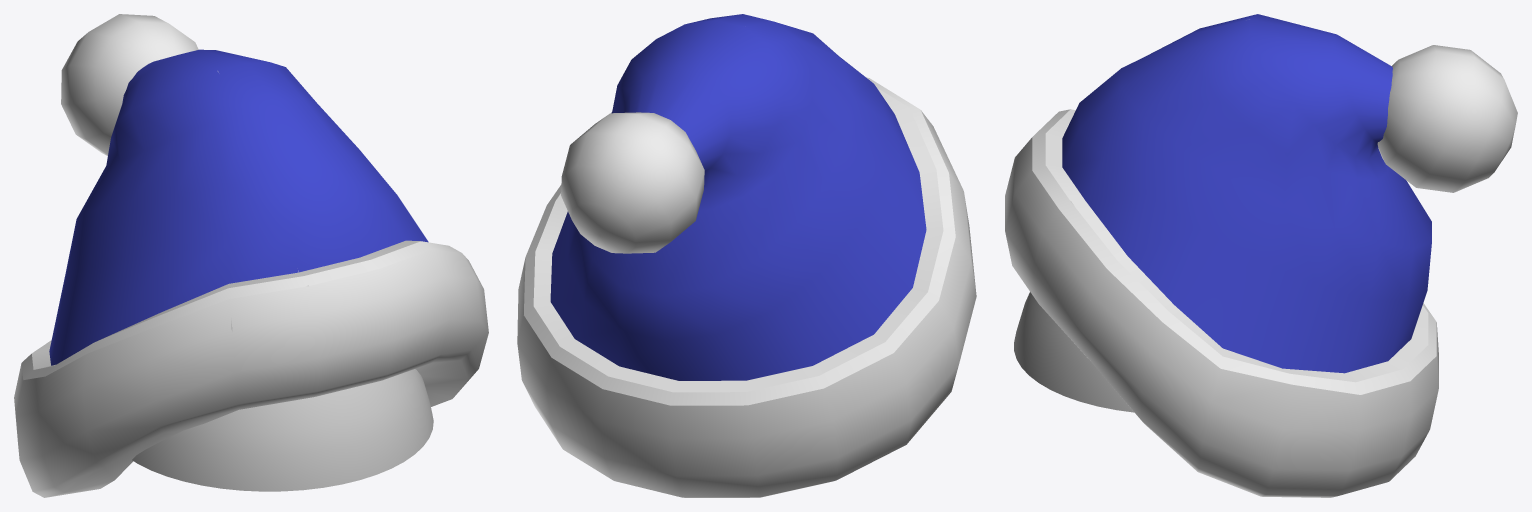
Rendered from R2D2Head.obj.
The picture shows the model from 3 angles, left to right: view 1: azimuth 30°, elevation 25°; view 2: azimuth 150°, elevation 25°; view 3: azimuth 270°, elevation 25°; orthographic projection. The views are drawn at different scales.
Parts seen in each view (by area): view 1: Gorro_navidad.001, Gorro_navidad, Mesh_0732.001_Mesh_0732Mesh.003; view 2: Gorro_navidad, Gorro_navidad.001; view 3: Gorro_navidad, Gorro_navidad.001, Mesh_0732.001_Mesh_0732Mesh.003.
Boxes of the visible parts, x1,y1,x2,y2 form: Gorro_navidad.001: (14, 14, 488, 497); Gorro_navidad: (49, 49, 428, 365); Mesh_0732.001_Mesh_0732Mesh.003: (132, 369, 433, 491); Gorro_navidad: (550, 14, 926, 380); Gorro_navidad.001: (517, 77, 976, 497); Gorro_navidad: (1062, 14, 1431, 373); Gorro_navidad.001: (1005, 45, 1517, 497); Mesh_0732.001_Mesh_0732Mesh.003: (1014, 292, 1133, 412).
Size of the model in its own units: 0.2258 by 0.2148 by 0.2387.
